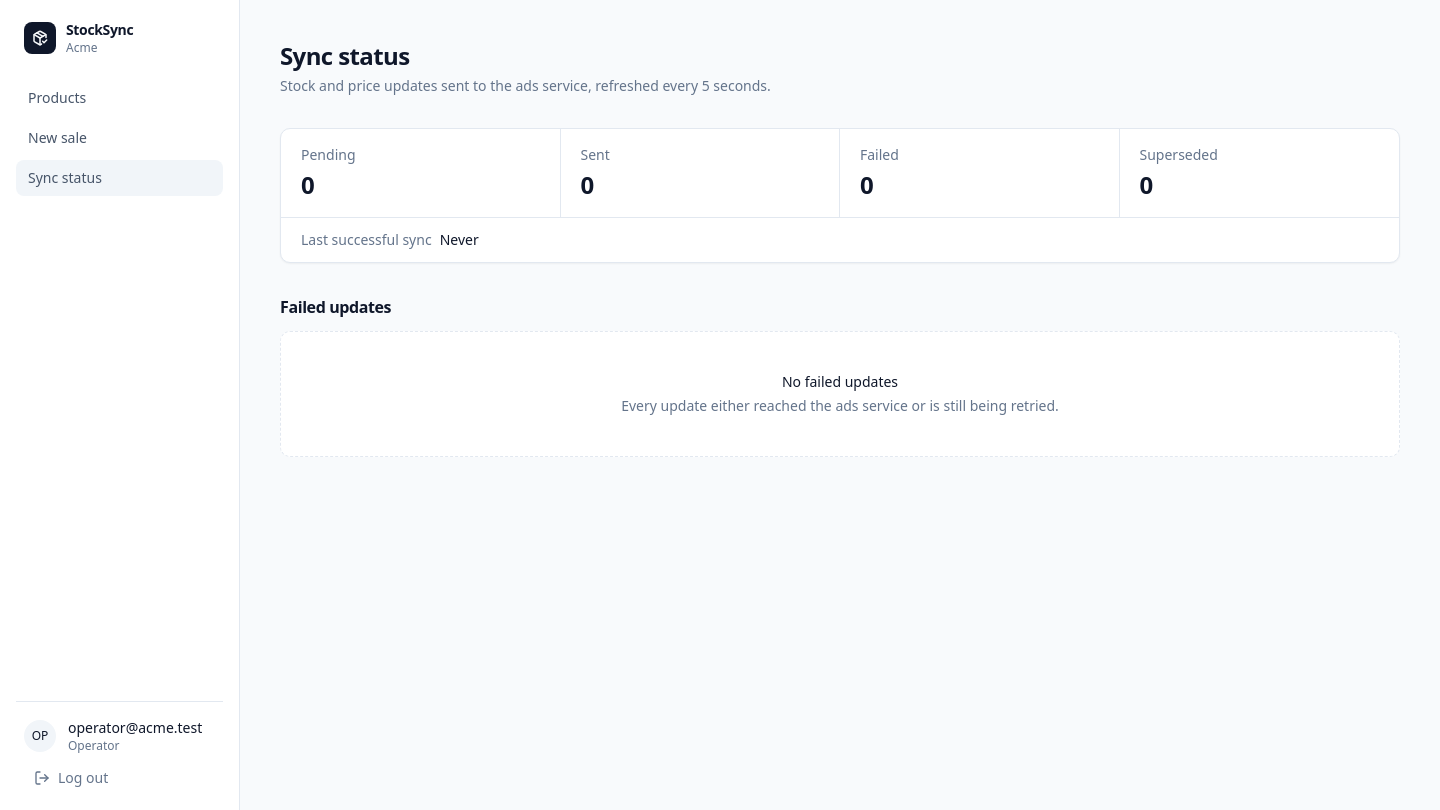
Scenario: auth guard and layout › stays signed in and explains when logout fails
Click the button "Log out" at {"x": 120, "y": 778}, box top-left (24, 762), bottom-right (215, 794)
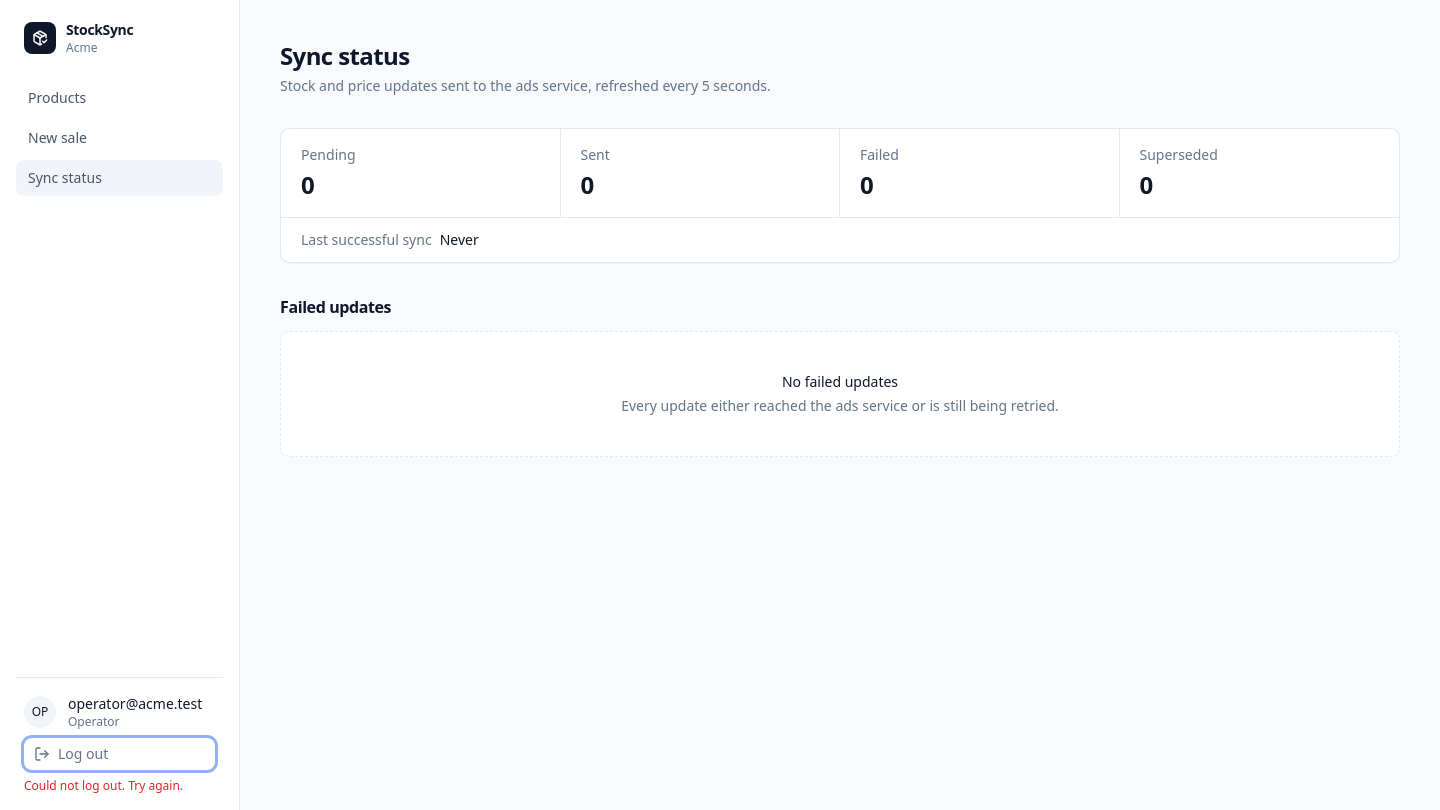
Expected: the text "operator@acme.test" is shown, top-left (68, 694), bottom-right (215, 714)
Now the message reads "Could not log out. Try again.", box top-left (24, 777), bottom-right (183, 794)
